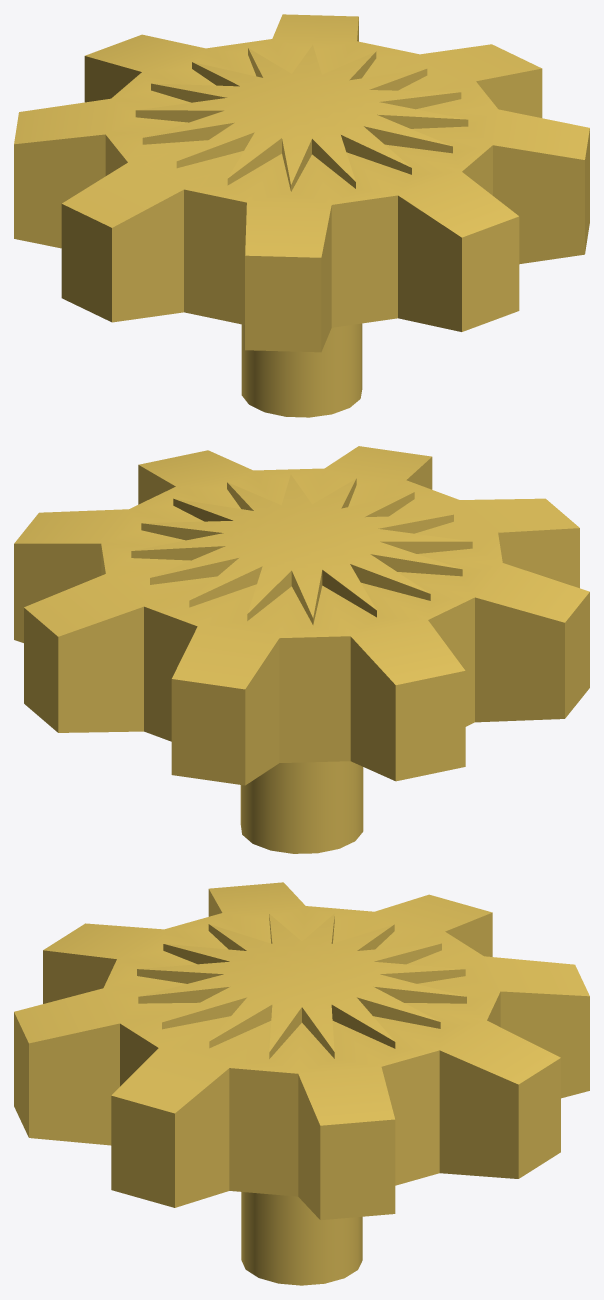
Rendered from Coleccionable_lowpoly.fbx.
3 views of the same model, one above another, from view 1: azimuth 30°, elevation 25°; view 2: azimuth 150°, elevation 25°; view 3: azimuth 270°, elevation 25° (orthographic).
Visible parts, largest first — view 1: coleccionable_lowpoly; view 2: coleccionable_lowpoly; view 3: coleccionable_lowpoly.
Boxes of the visible parts, <box> form: coleccionable_lowpoly: <box>14,14,589,417</box>; coleccionable_lowpoly: <box>14,446,589,853</box>; coleccionable_lowpoly: <box>14,882,589,1285</box>.
Bounding box in the file's own units: 291 × 159 × 291.
